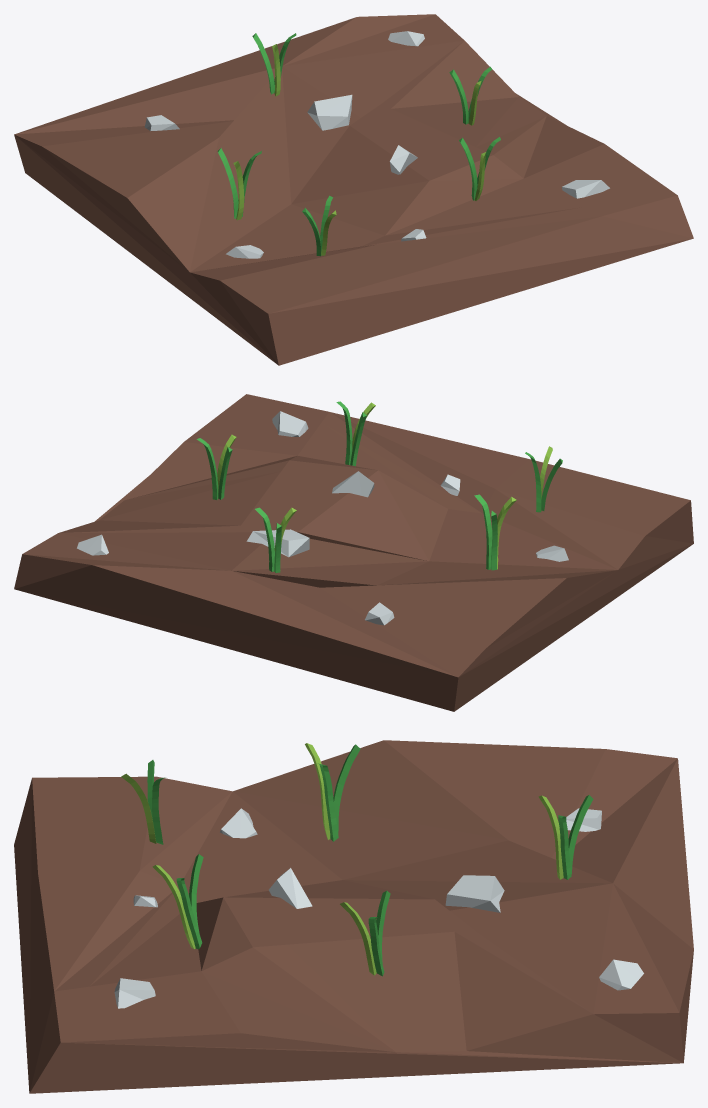
Rendered from Fertile soil.glb.
The picture shows the model from 3 angles, top to bottom: view 1: azimuth 30°, elevation 25°; view 2: azimuth 150°, elevation 25°; view 3: azimuth 270°, elevation 25°; orthographic projection. The views are drawn at different scales.
Visible parts, largest first — view 1: group312642189, group1016272854, group1509297213; view 2: group312642189, group1016272854, group2065509860, group1509297213; view 3: group312642189, group1016272854, group2093539053, group2065509860, group1509297213, group1092900145, group547520262, group1884448017, group1661739404, group685930730, group1446479835, group631341903 (+4 smaller).
Part boxes in pixels (box(x1,y1,x2,y2)): group312642189: box(14, 14, 693, 365); group1016272854: box(307, 94, 352, 130); group1509297213: box(562, 180, 609, 198); group312642189: box(14, 394, 693, 711); group1016272854: box(246, 529, 309, 557); group2065509860: box(332, 471, 374, 497); group1509297213: box(272, 411, 308, 436); group312642189: box(14, 740, 693, 1093); group1016272854: box(445, 875, 504, 912); group2093539053: box(599, 959, 643, 990); group2065509860: box(269, 868, 312, 908); group1509297213: box(114, 978, 155, 1008); group1092900145: box(220, 808, 257, 838); group547520262: box(318, 763, 338, 841); group1884448017: box(152, 865, 195, 949); group1661739404: box(333, 744, 360, 832); group685930730: box(176, 878, 202, 949); group1446479835: box(340, 902, 376, 975); group631341903: box(538, 795, 563, 879).
Size of the model in its own units: 1.18 by 0.337 by 1.18.
